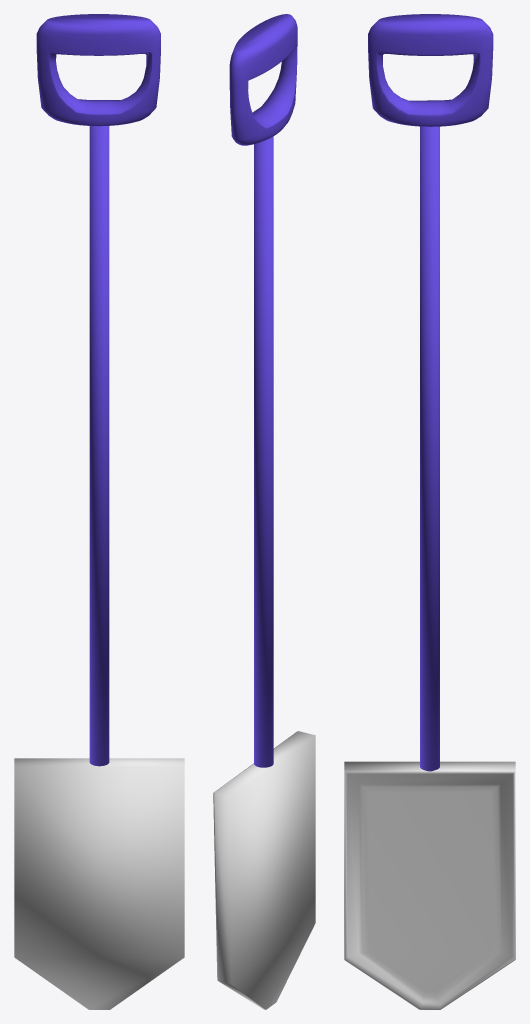
Rendered from F_łopata.fbx.
3 renders of one model, left to right at view 1: azimuth 90°, elevation 25°; view 2: azimuth 150°, elevation 25°; view 3: azimuth 270°, elevation 25°, orthographic. The views are drawn at different scales.
Parts seen in each view (by area): view 1: F_łopata; view 2: F_łopata; view 3: F_łopata.
Boxes of the visible parts, box(x1,y1,x2,y2) form: F_łopata: box(14, 14, 184, 1009); F_łopata: box(213, 14, 315, 1009); F_łopata: box(344, 14, 515, 1009).
Size of the model in its own units: 3.29 by 104 by 16.25.
